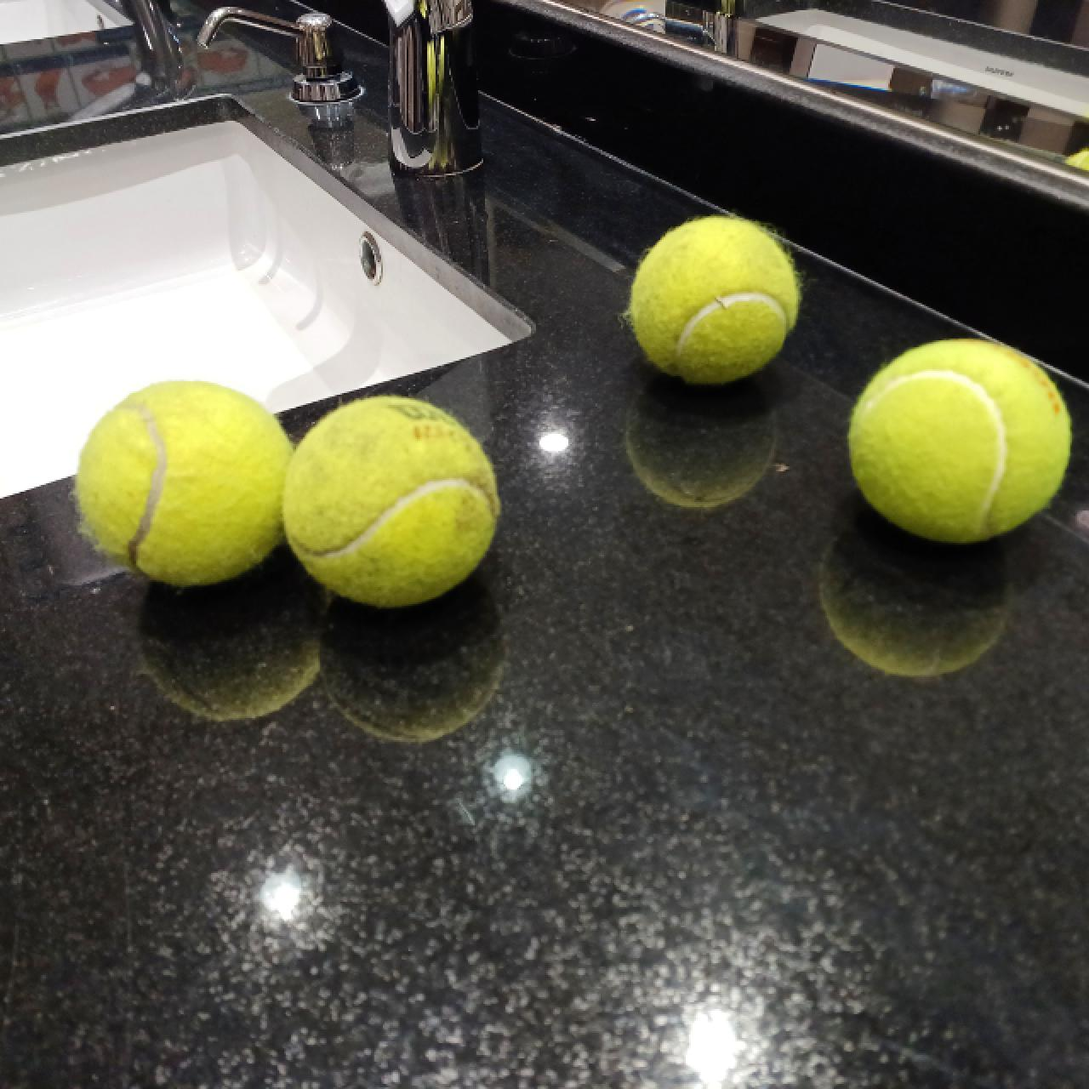tennis-ball: (282, 391, 505, 613), (79, 374, 294, 592), (848, 339, 1073, 544), (630, 216, 801, 383)
